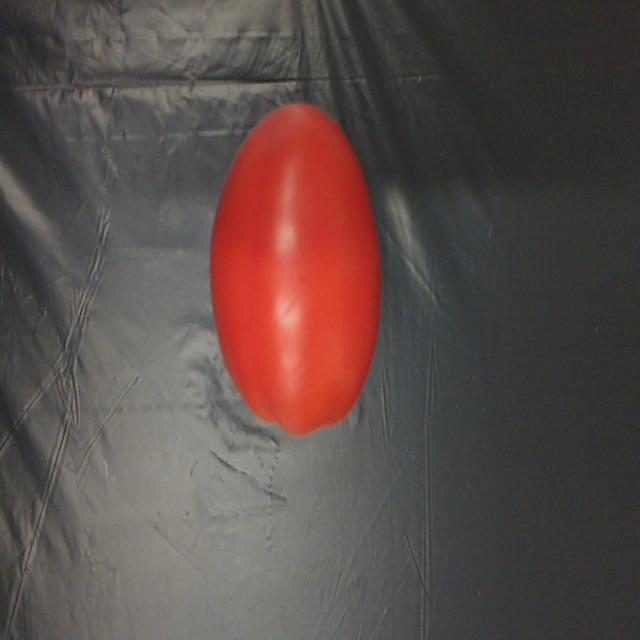kirmizi: (204, 101, 397, 444)
